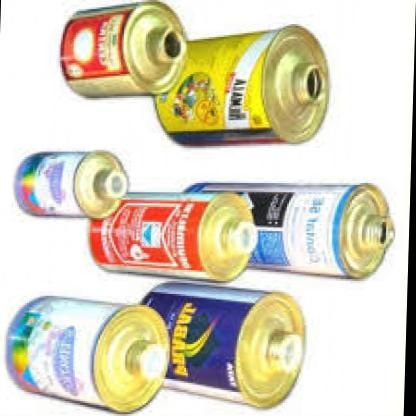trash: (15, 151, 393, 281), (7, 283, 304, 412), (61, 1, 328, 143), (155, 26, 328, 143), (143, 283, 304, 406), (186, 183, 394, 277), (7, 297, 168, 412), (89, 193, 255, 281), (61, 2, 186, 96), (15, 151, 127, 217)
